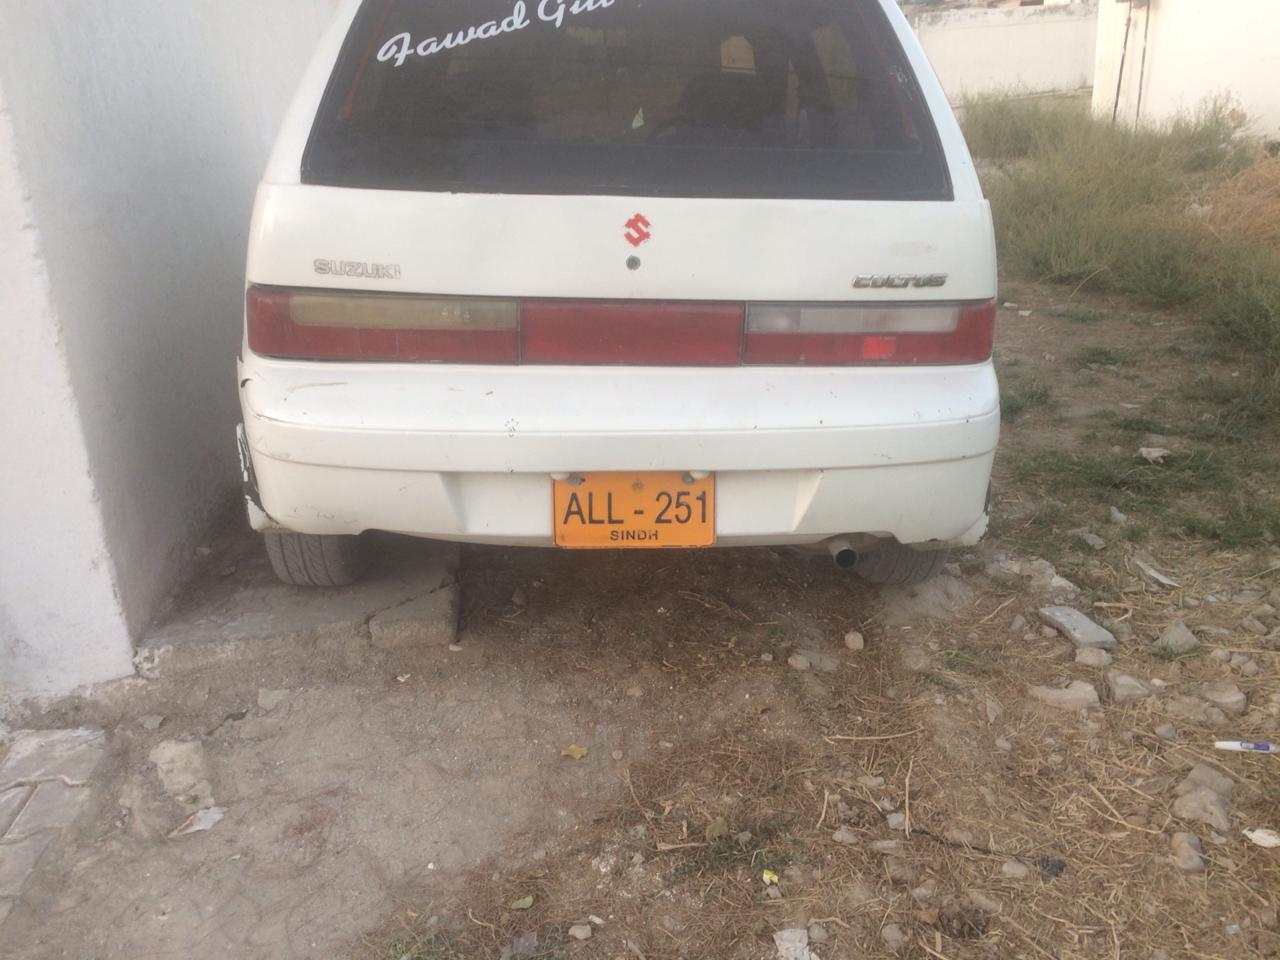license plate: (555, 474, 716, 550)
